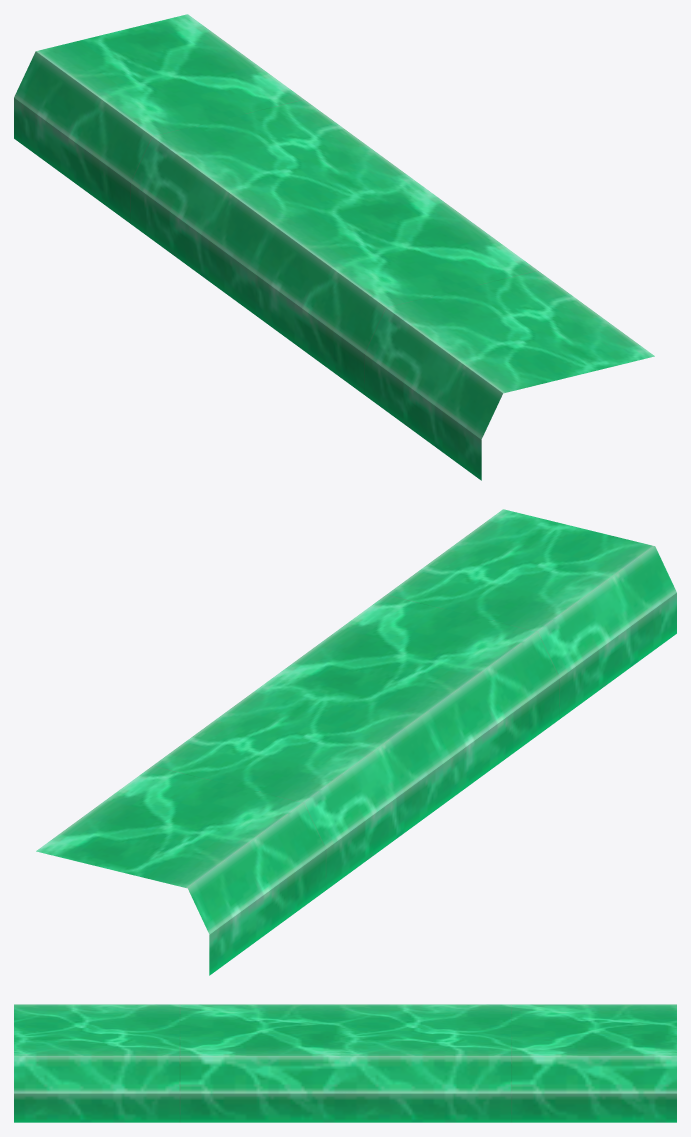
The model's file is narrow_jump_over_b.glb.
The picture shows the model from 3 angles, top to bottom: view 1: azimuth 30°, elevation 25°; view 2: azimuth 150°, elevation 25°; view 3: azimuth 270°, elevation 25°; orthographic projection. The views are drawn at different scales.
Parts seen in each view (by area): view 1: narrow_jump_over_b_inv_fill; view 2: narrow_jump_over_b_inv_fill; view 3: narrow_jump_over_b_inv_fill.
Boxes of the visible parts, bbox=[...] form: narrow_jump_over_b_inv_fill: bbox=[14, 14, 654, 480]; narrow_jump_over_b_inv_fill: bbox=[36, 509, 676, 975]; narrow_jump_over_b_inv_fill: bbox=[14, 1004, 676, 1122].
Size of what is drawn, in the model's own units: 1.6 by 0.64 by 6.61.
1 material, 1 textured.
